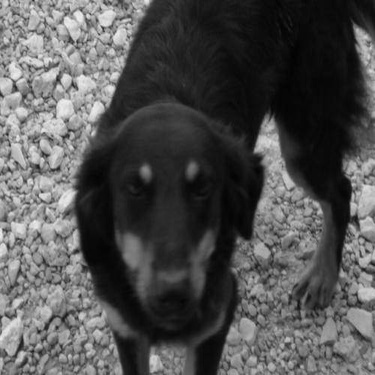dog: (61, 3, 372, 371)
